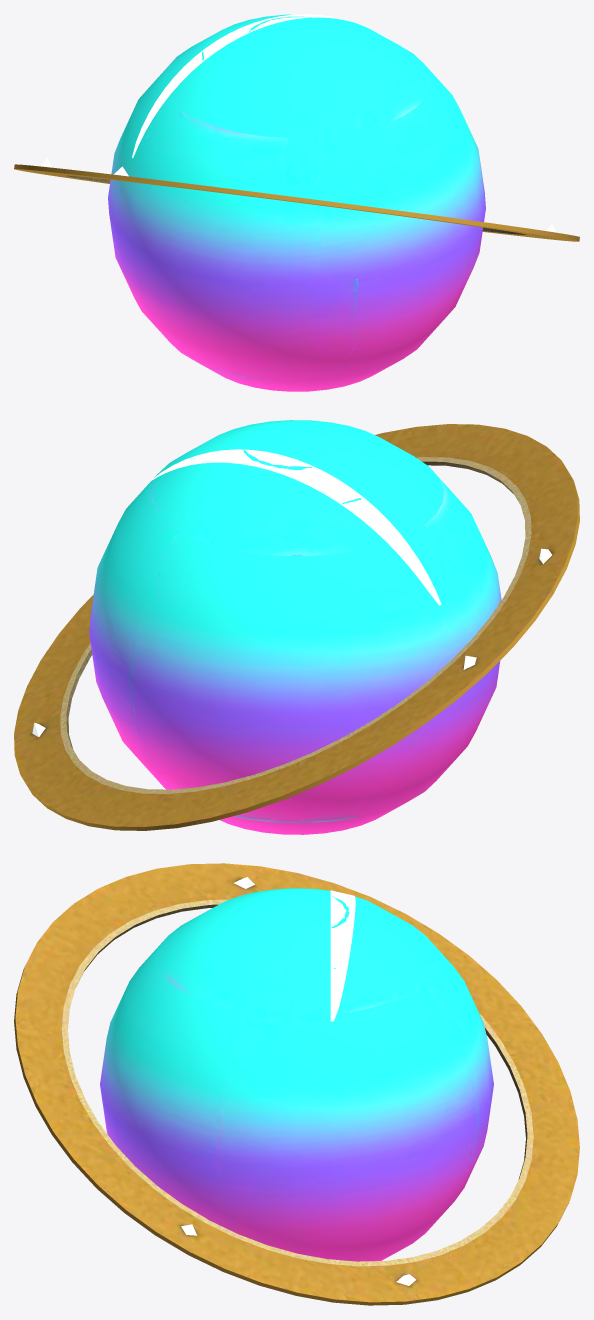
3 views of the same model, one above another, from view 1: azimuth 30°, elevation 25°; view 2: azimuth 150°, elevation 25°; view 3: azimuth 270°, elevation 25° (orthographic). The views are drawn at different scales.
Visible parts, largest first — view 1: glow_Planet_gradient, Brushed_gold, glow_Ice_crystal_and_rim; view 2: glow_Planet_gradient, Brushed_gold, glow_Ice_crystal_and_rim, Polished_inner_gold; view 3: glow_Planet_gradient, Brushed_gold, Polished_inner_gold, glow_Ice_crystal_and_rim.
Boxes of the visible parts, left/top/right/bottom form: glow_Planet_gradient: left=108, top=14, right=485, bottom=391; Brushed_gold: left=14, top=164, right=579, bottom=241; glow_Ice_crystal_and_rim: left=40, top=14, right=556, bottom=232; glow_Planet_gradient: left=89, top=420, right=501, bottom=834; Brushed_gold: left=14, top=424, right=579, bottom=830; glow_Ice_crystal_and_rim: left=32, top=449, right=551, bottom=736; Polished_inner_gold: left=60, top=457, right=531, bottom=793; glow_Planet_gradient: left=100, top=888, right=493, bottom=1261; Brushed_gold: left=14, top=863, right=579, bottom=1305; Polished_inner_gold: left=61, top=899, right=533, bottom=1266; glow_Ice_crystal_and_rim: left=181, top=877, right=416, bottom=1285.
Size of the model in its own units: 0.9943 by 0.6964 by 1.
4 materials, 3 textured.
